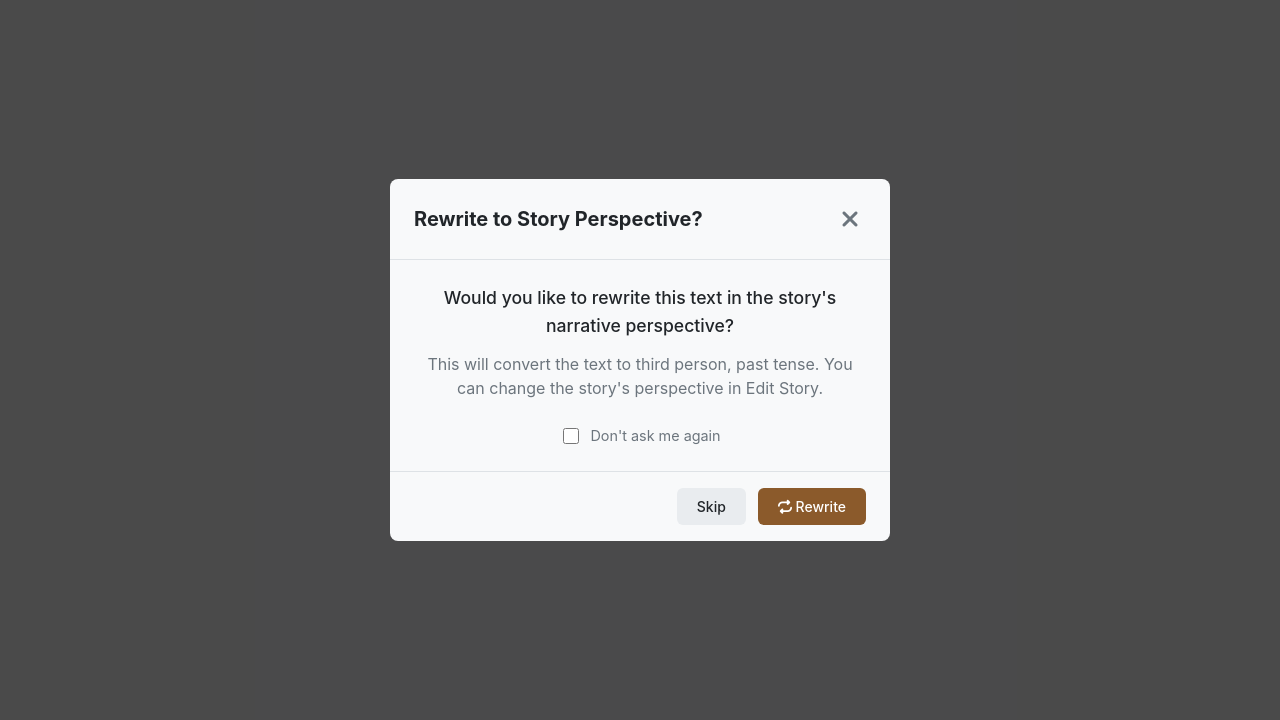
Scenario: ThirdPersonPromptModal › Rapid Click Protection › should disable Rewrite button after first click
What coordinates should you click on to do the following:
click the button "Rewrite"
I would click on:
 (812, 507)
Its box is [758, 488, 866, 525].
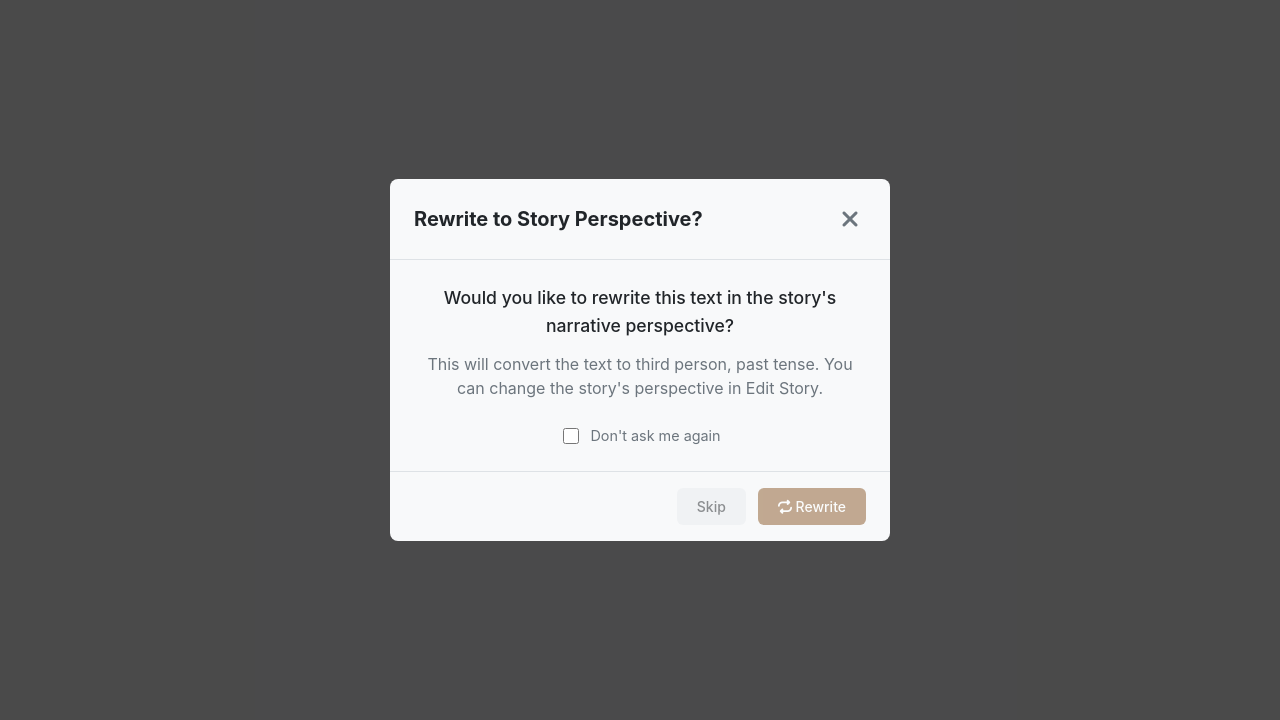
Expected: the button "Rewrite" is disabled, [758, 488, 866, 525]
